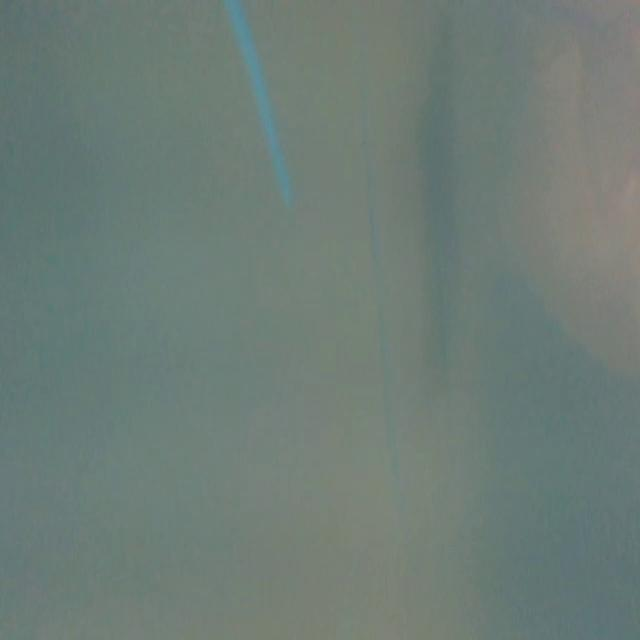plastic bags: (504, 0, 640, 363)
